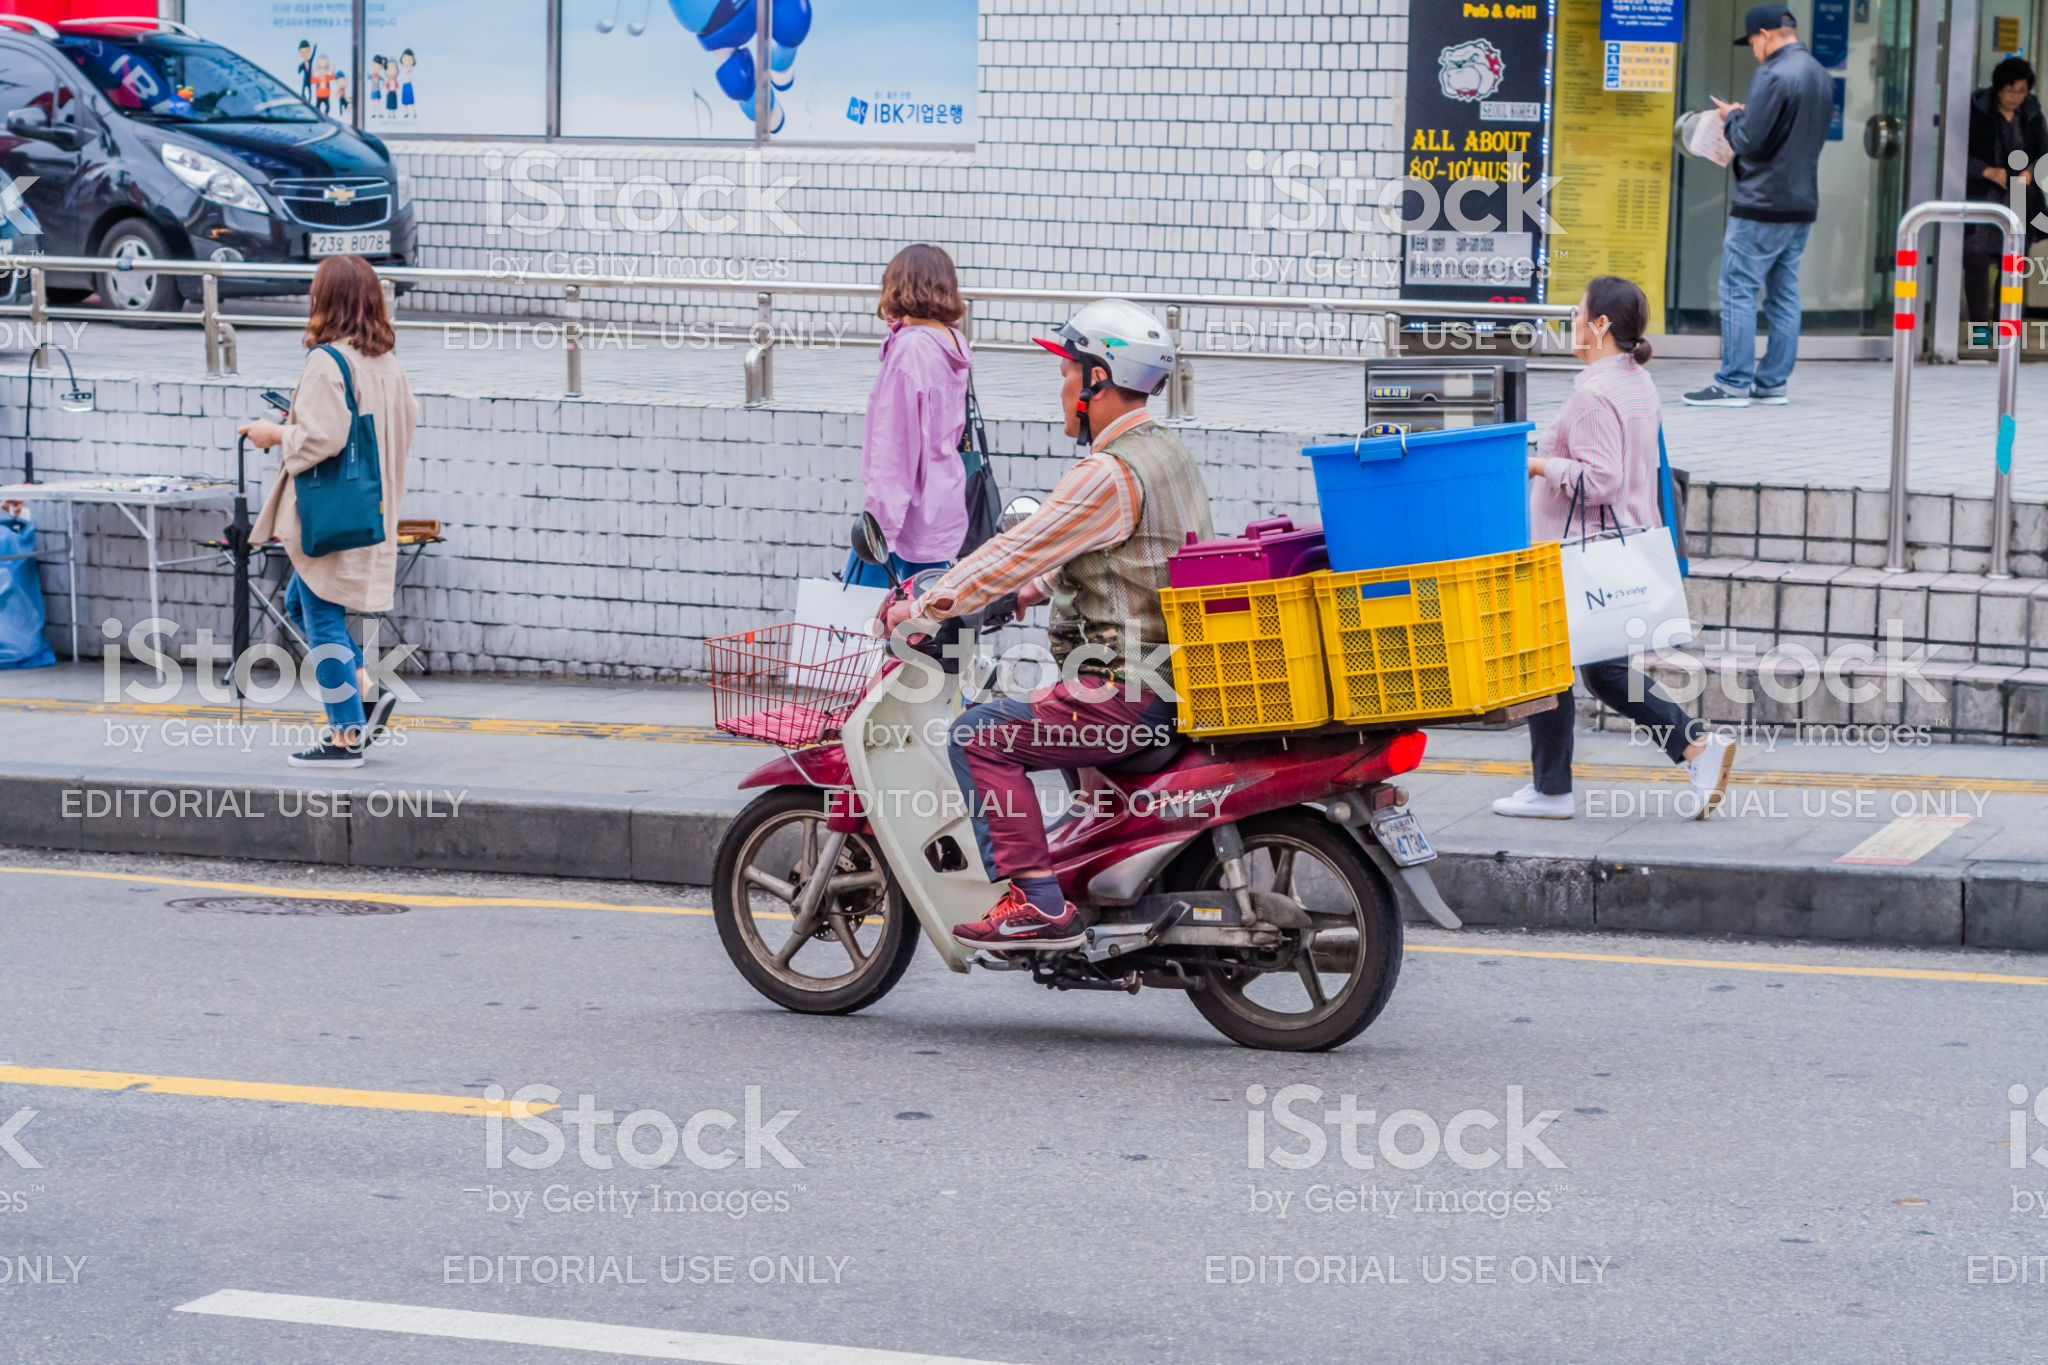helmet: (1026, 286, 1177, 396)
